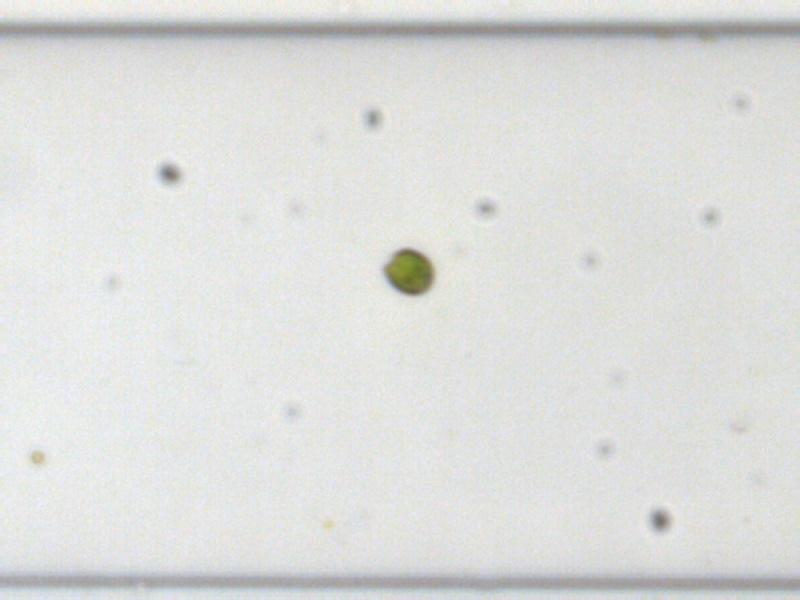Chlorella: (28, 450, 43, 462)
Platymonas: (380, 245, 435, 296)
